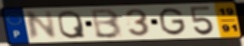3: (124, 8, 151, 37)
5: (188, 5, 215, 37)
B: (90, 8, 124, 40)
G: (158, 7, 188, 37)
N: (25, 9, 59, 42)
Q: (56, 9, 87, 40)
